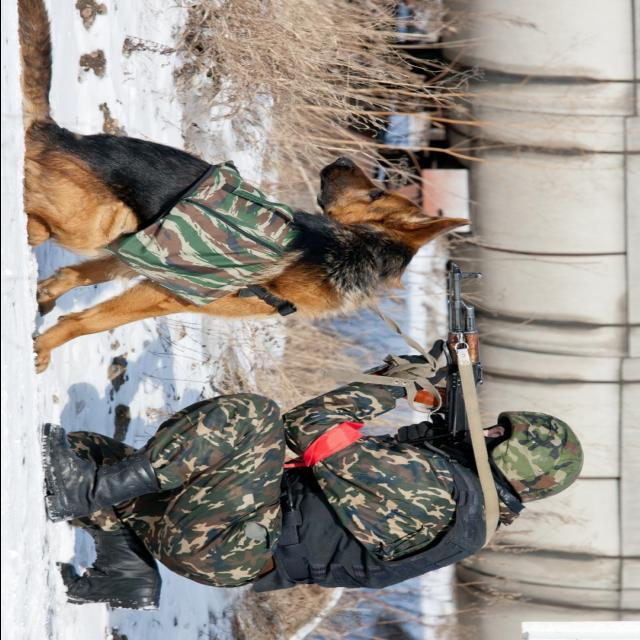Dogs: (0, 0, 473, 374)
